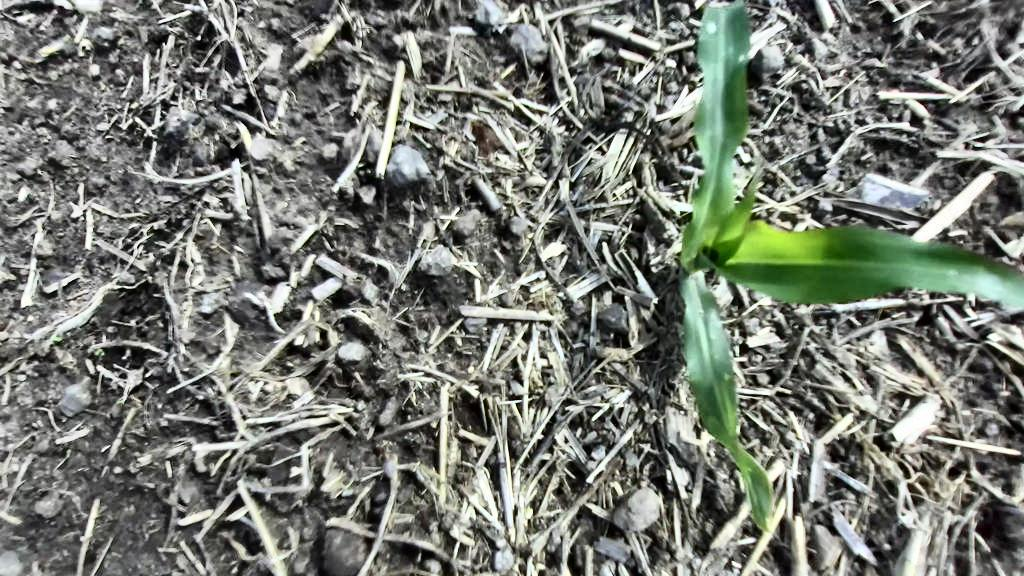BroWeed: (521, 363, 544, 393), (365, 421, 378, 442), (522, 504, 536, 520), (428, 415, 442, 430), (341, 489, 354, 497), (94, 348, 105, 356), (52, 335, 62, 341), (382, 440, 388, 446)
